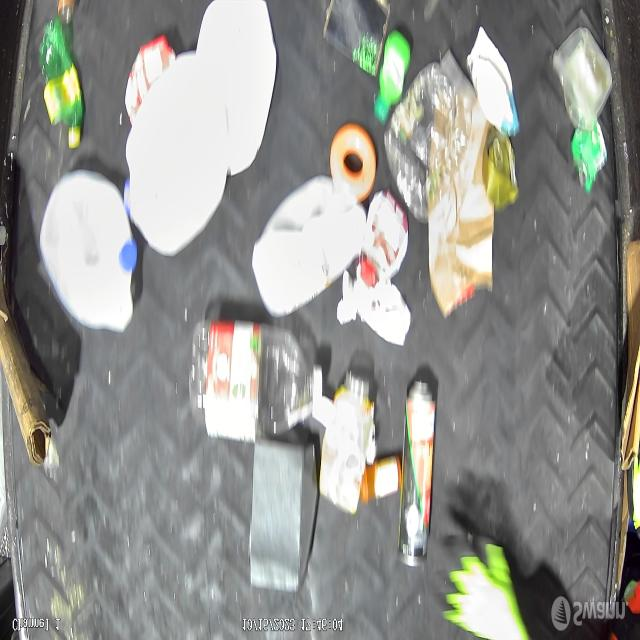can: (398, 378, 437, 568), (482, 124, 521, 209), (571, 119, 608, 194)
milk_jug: (123, 48, 229, 258), (251, 174, 367, 321), (40, 167, 138, 334), (194, 0, 278, 178)
non_white_jug: (355, 187, 411, 287)
plastic_bottle: (188, 320, 322, 442), (383, 49, 475, 221), (39, 20, 83, 149)
